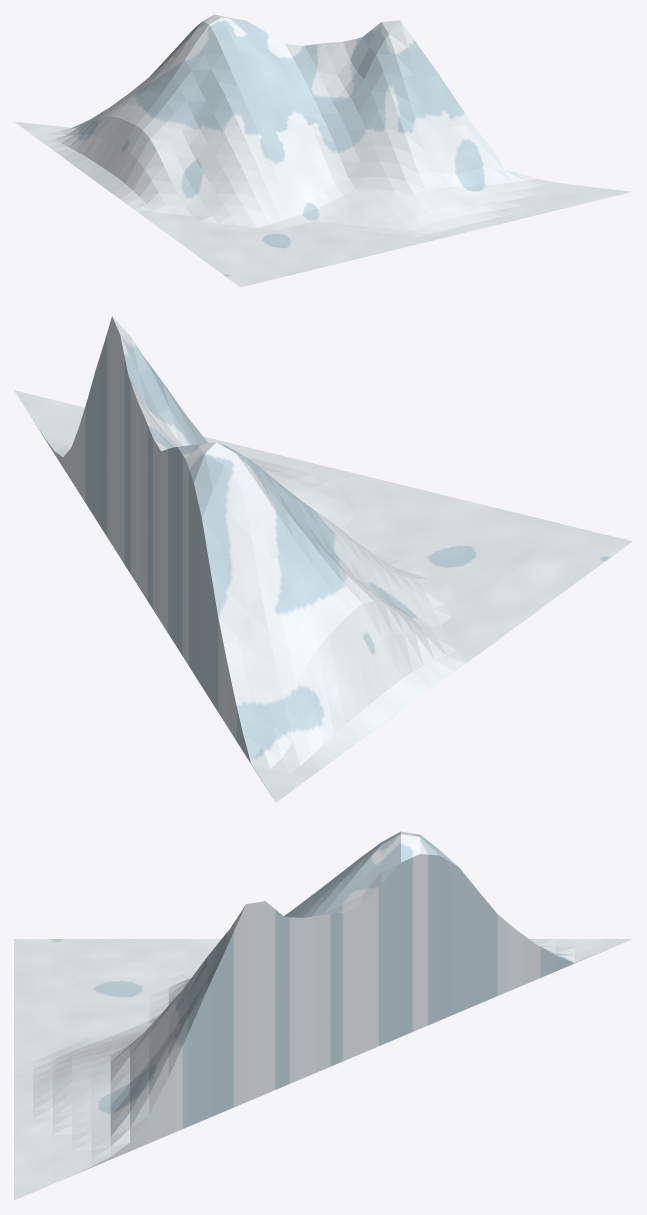
Rendered from Snow_Mountains_02_NW.obj.
The picture shows the model from 3 angles, top to bottom: view 1: azimuth 30°, elevation 25°; view 2: azimuth 150°, elevation 25°; view 3: azimuth 270°, elevation 25°; orthographic projection. The views are drawn at different scales.
Bounding box in the file's own units: 10 × 3.53 × 10.
Materials: 1 (1 with a texture image).
